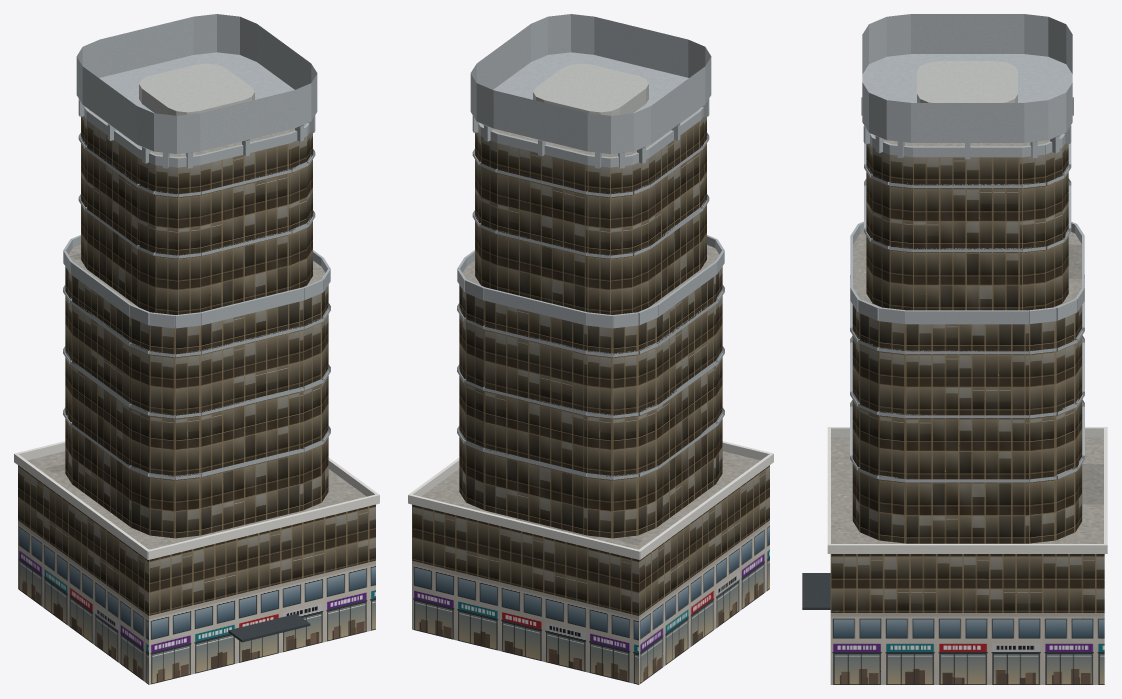
Rendered from OW_CaoOc_VP_BoTron_64.fbx.
The picture shows the model from 3 angles, left to right: view 1: azimuth 30°, elevation 25°; view 2: azimuth 150°, elevation 25°; view 3: azimuth 270°, elevation 25°; orthographic projection. The views are drawn at different scales.
Parts seen in each view (by area): view 1: OW_CaoOc_VP_BoTron_64_LOD0; view 2: OW_CaoOc_VP_BoTron_64_LOD0; view 3: OW_CaoOc_VP_BoTron_64_LOD0.
Part boxes in pixels (x1,y1,x2,y2): OW_CaoOc_VP_BoTron_64_LOD0: [14, 14, 379, 684]; OW_CaoOc_VP_BoTron_64_LOD0: [408, 14, 773, 684]; OW_CaoOc_VP_BoTron_64_LOD0: [802, 14, 1107, 684].
Size of what is drawn, in the model's own units: 31.7 by 71 by 34.55.
